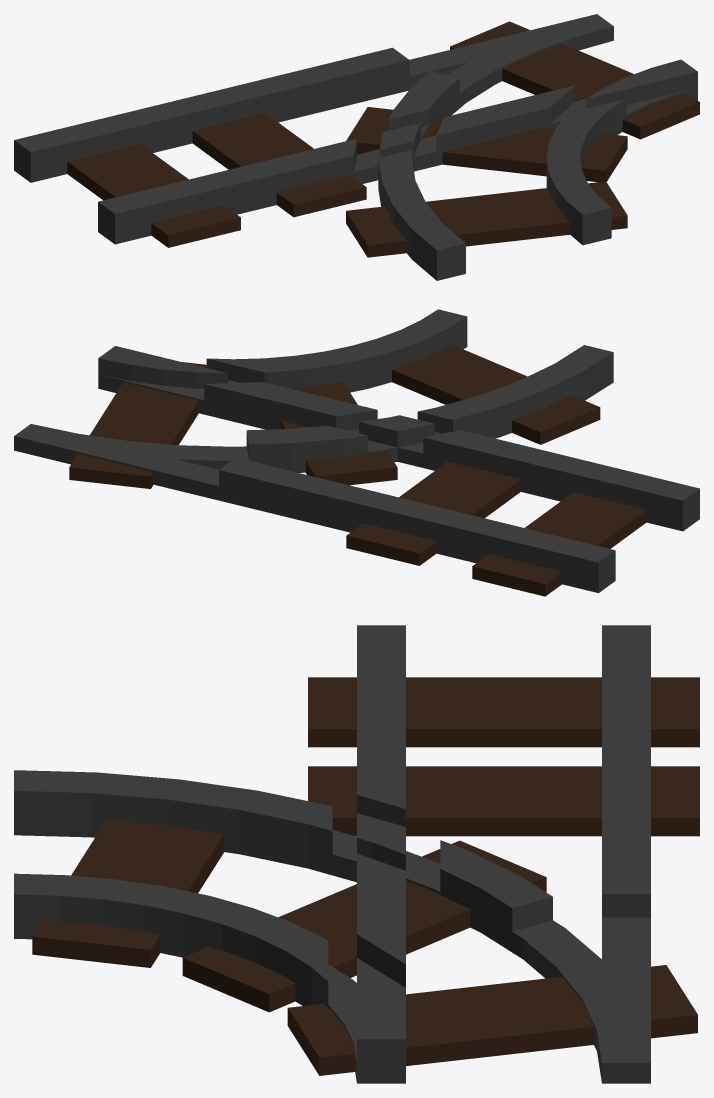
File: Cave_Lair_Rail_Road_Track_Straight_Corner_Split_01.fbx
3 views of the same model, one above another, from view 1: azimuth 30°, elevation 25°; view 2: azimuth 150°, elevation 25°; view 3: azimuth 270°, elevation 25° (orthographic). The views are drawn at different scales.
Parts seen in each view (by area): view 1: Cave_Lair_Rail_Road_Track_Straight_Corner_Split_01; view 2: Cave_Lair_Rail_Road_Track_Straight_Corner_Split_01; view 3: Cave_Lair_Rail_Road_Track_Straight_Corner_Split_01.
Part boxes in pixels (<box>): Cave_Lair_Rail_Road_Track_Straight_Corner_Split_01: <box>14,14,699,280</box>; Cave_Lair_Rail_Road_Track_Straight_Corner_Split_01: <box>14,309,699,596</box>; Cave_Lair_Rail_Road_Track_Straight_Corner_Split_01: <box>14,625,699,1083</box>.
Bounding box in the file's own units: 2 × 0.1 × 1.4.
